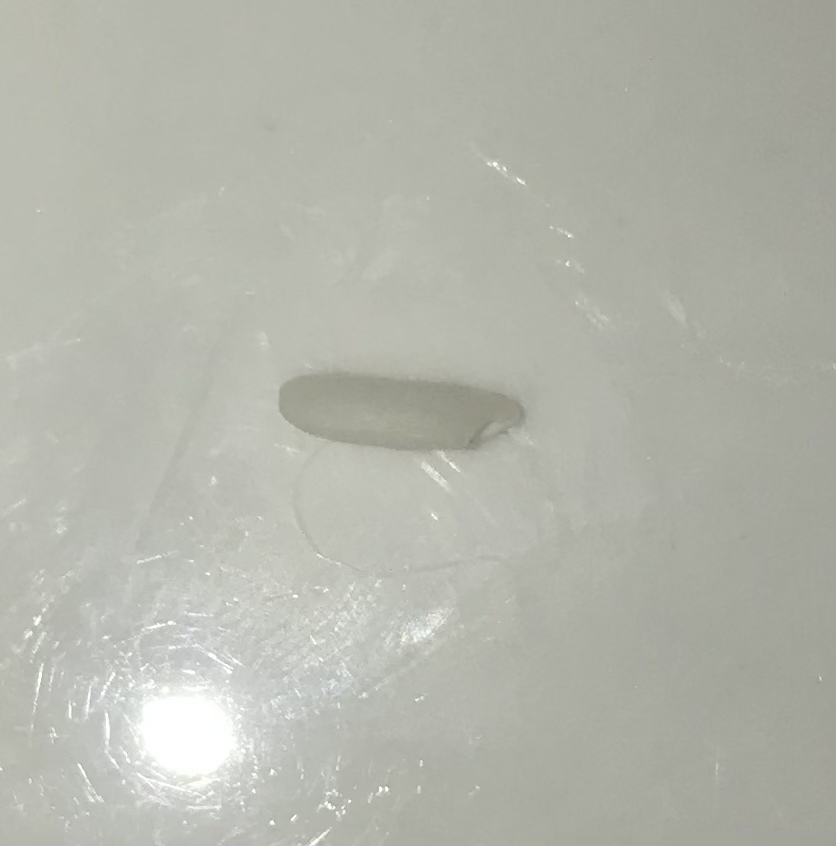Gao Thom Go Cong: (271, 327, 543, 499)
